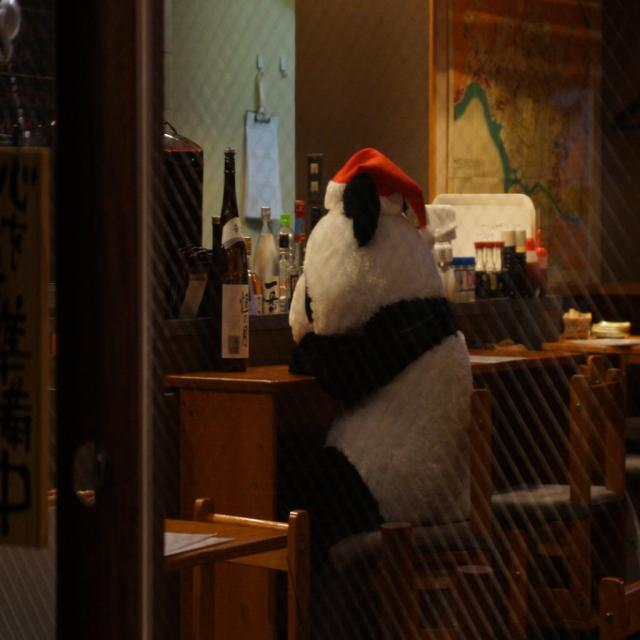panda: (276, 142, 479, 581)
